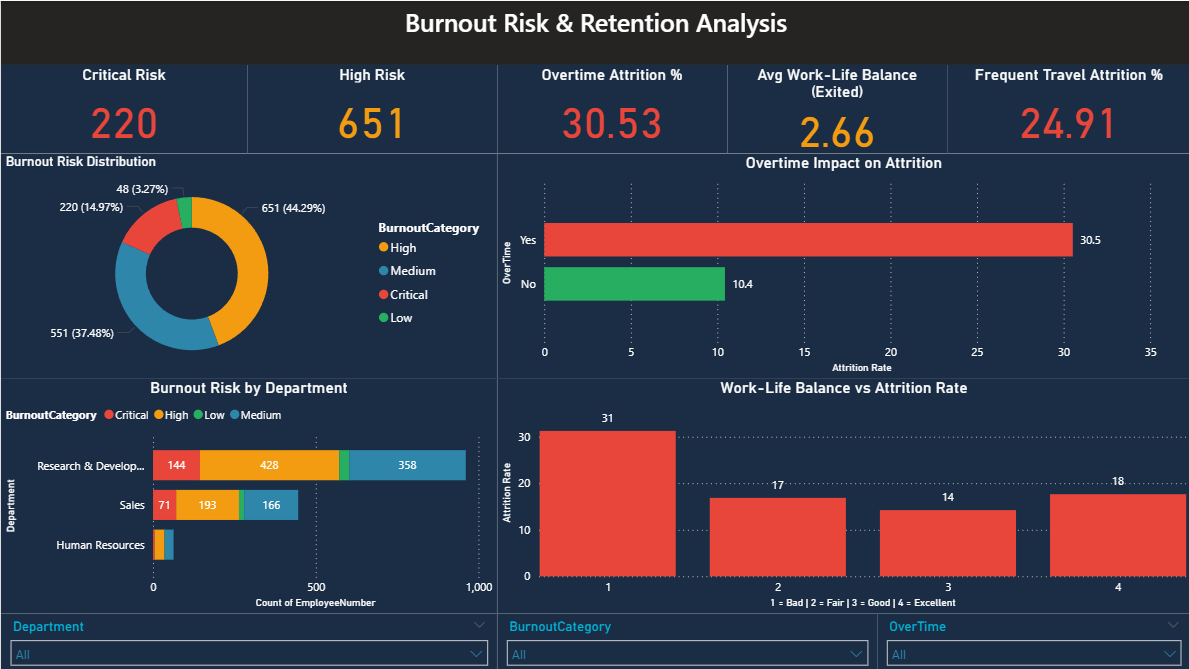

Layout of this report page (visuals, bound fields, positions):
{"tool":"powerbi","page":{"name":"Burnout Risk Analysis","canvas":[1280,720],"ordinal":1},"visuals":[{"type":"shape","box":[0,0,1280.3,68.6],"z":0},{"type":"textbox","box":[0,0,1280.3,68.6],"z":1},{"type":"card","title":"Critical Risk","fields":{"Values":["HR.Critical Burnout Count"]},"box":[0,68.6,264.9,95.5],"z":2},{"type":"card","title":"High Risk","fields":{"Values":["HR.High Risk Count"]},"box":[264.9,68.6,269,95.5],"z":3},{"type":"card","title":"Overtime Attrition %","fields":{"Values":["HR.OverTime Attrition Rate"]},"box":[533.9,68.6,247.4,95.5],"z":4},{"type":"card","title":"Avg Work-Life Balance (Exited)","fields":{"Values":["HR.Avg WLB Attrited"]},"box":[781.3,68.6,236.7,95.5],"z":5},{"type":"card","title":"Frequent Travel Attrition %","fields":{"Values":["HR.Frequent Travel Attrition Rate"]},"box":[1018,68.6,262.2,95.5],"z":6},{"type":"donutChart","title":"Burnout Risk Distribution","fields":{"Category":["HR.BurnoutCategory"],"Y":["CountNonNull(HR.EmployeeNumber)"]},"box":[0,164.1,533.9,242.1],"z":7},{"type":"clusteredBarChart","title":"Overtime Impact on Attrition","fields":{"Category":["HR.OverTime"],"Y":["HR.Attrition Rate"]},"box":[533.9,164.1,746.4,242.1],"z":8},{"type":"barChart","title":"Burnout Risk by Department","fields":{"Category":["HR.Department"],"Y":["CountNonNull(HR.EmployeeNumber)"],"Series":["HR.BurnoutCategory"]},"box":[0,406.1,533.9,252.8],"z":9},{"type":"clusteredColumnChart","title":"Work-Life Balance vs Attrition Rate","fields":{"Category":["HR.WorkLifeBalance"],"Y":["HR.Attrition Rate"]},"box":[533.9,406.1,746.4,252.8],"z":10},{"type":"slicer","fields":{"Values":["HR.Department"]},"box":[0,659,533.9,60.5],"z":11},{"type":"slicer","fields":{"Values":["HR.BurnoutCategory"]},"box":[533.9,659,408.8,60.5],"z":12},{"type":"slicer","fields":{"Values":["HR.OverTime"]},"box":[942.7,659,337.6,60.5],"z":13}]}

Visuals, with their boxes in screenshot pixels (x1, y1, x2, y2), scaled from the page's 1280x720 canvas onto the 1189x669 screenshot:
shape: (x1=0, y1=0, x2=1188, y2=64)
textbox: (x1=0, y1=0, x2=1188, y2=64)
"Critical Risk" card: (x1=0, y1=64, x2=246, y2=152)
"High Risk" card: (x1=246, y1=64, x2=496, y2=152)
"Overtime Attrition %" card: (x1=496, y1=64, x2=726, y2=152)
"Avg Work-Life Balance (Exited)" card: (x1=726, y1=64, x2=946, y2=152)
"Frequent Travel Attrition %" card: (x1=946, y1=64, x2=1188, y2=152)
"Burnout Risk Distribution" donutChart: (x1=0, y1=152, x2=496, y2=377)
"Overtime Impact on Attrition" clusteredBarChart: (x1=496, y1=152, x2=1188, y2=377)
"Burnout Risk by Department" barChart: (x1=0, y1=377, x2=496, y2=612)
"Work-Life Balance vs Attrition Rate" clusteredColumnChart: (x1=496, y1=377, x2=1188, y2=612)
slicer - HR.Department: (x1=0, y1=612, x2=496, y2=668)
slicer - HR.BurnoutCategory: (x1=496, y1=612, x2=876, y2=668)
slicer - HR.OverTime: (x1=876, y1=612, x2=1188, y2=668)
